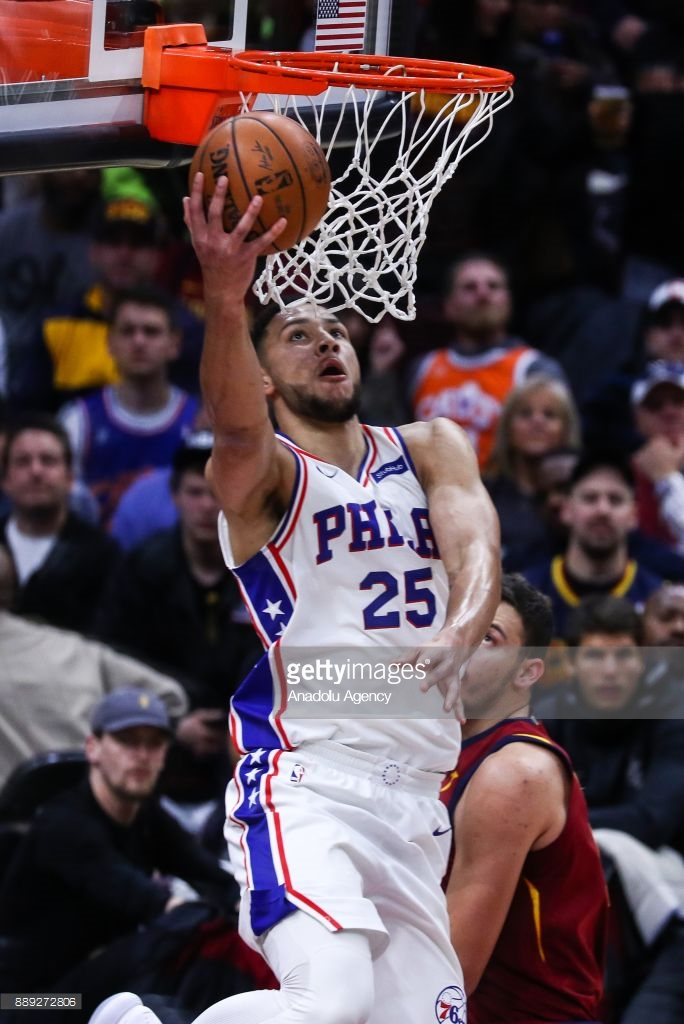ball: (201, 121, 326, 256)
player: (194, 197, 503, 1024), (459, 597, 554, 1024)
